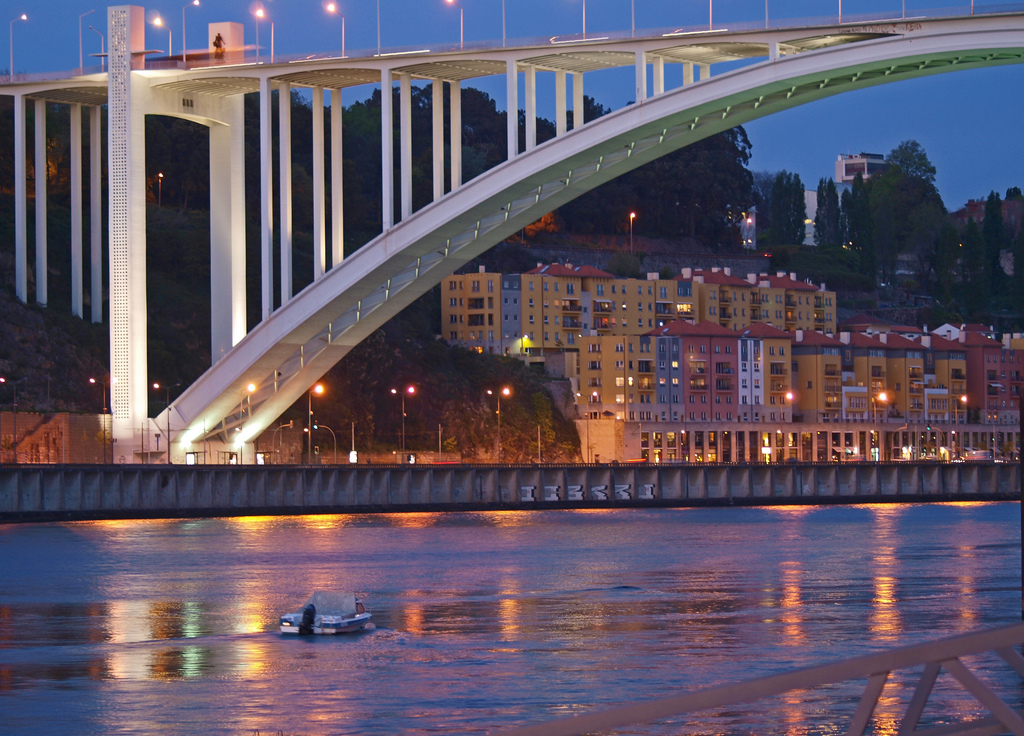arrabida: (0, 3, 1023, 465)
